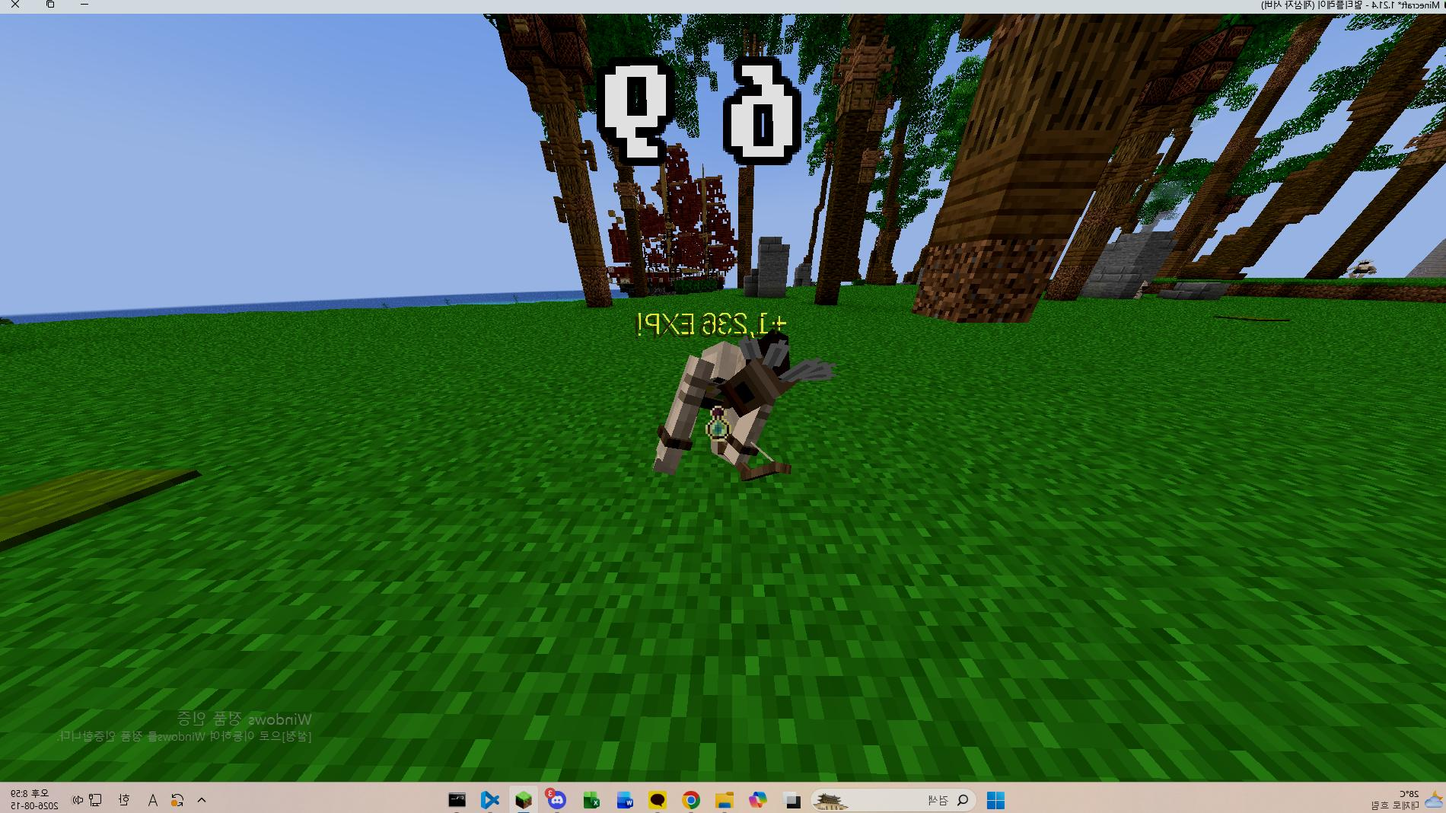bow_indian: (583, 300, 841, 527)
